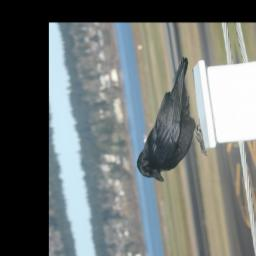Crow: (118, 56, 211, 186)
